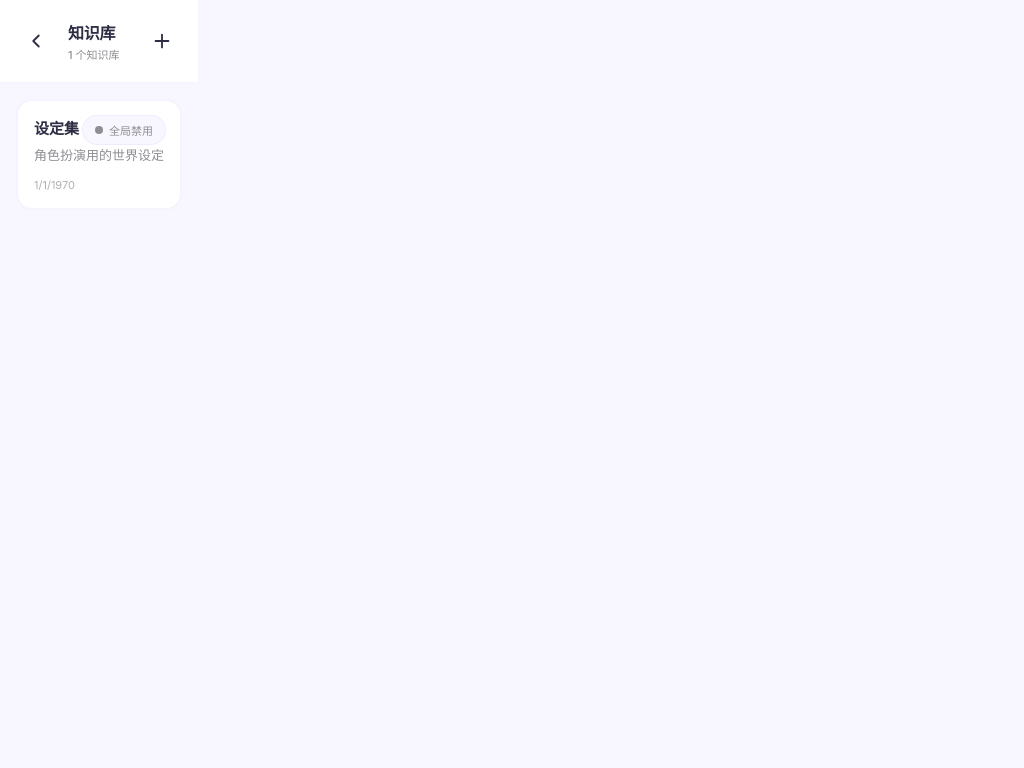
KnowledgeBasePage 详情与条目 › 进入详情：展示副标题的启用计数，并能添加新条目
Click the element with class "kb-card".
click(99, 154)  # box top-left (16, 99), bottom-right (182, 210)
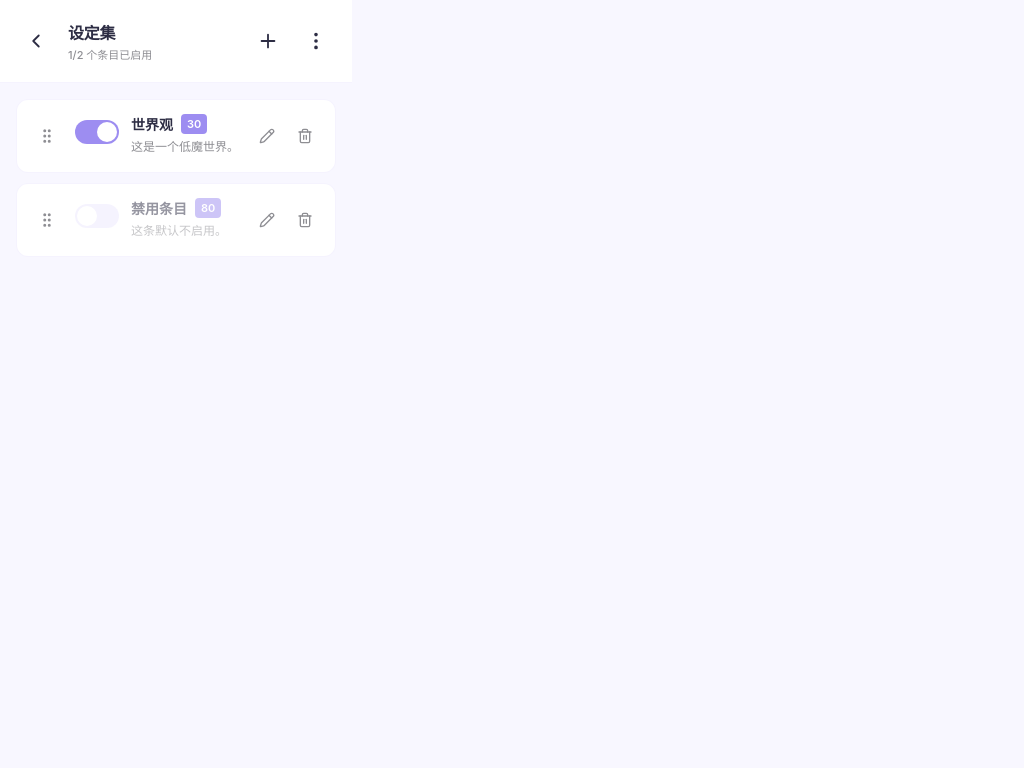
Expected: the element with class "kb-detail-view" is shown, top-left (0, 0), bottom-right (352, 767)
Expected: the text "设定集" is shown, top-left (68, 23), bottom-right (115, 43)
Expected: the text "1/2 个条目已启用" is shown, top-left (68, 48), bottom-right (152, 62)
Click the 2nd button with class "nav-btn".
click(268, 41)  # box top-left (248, 21), bottom-right (288, 61)
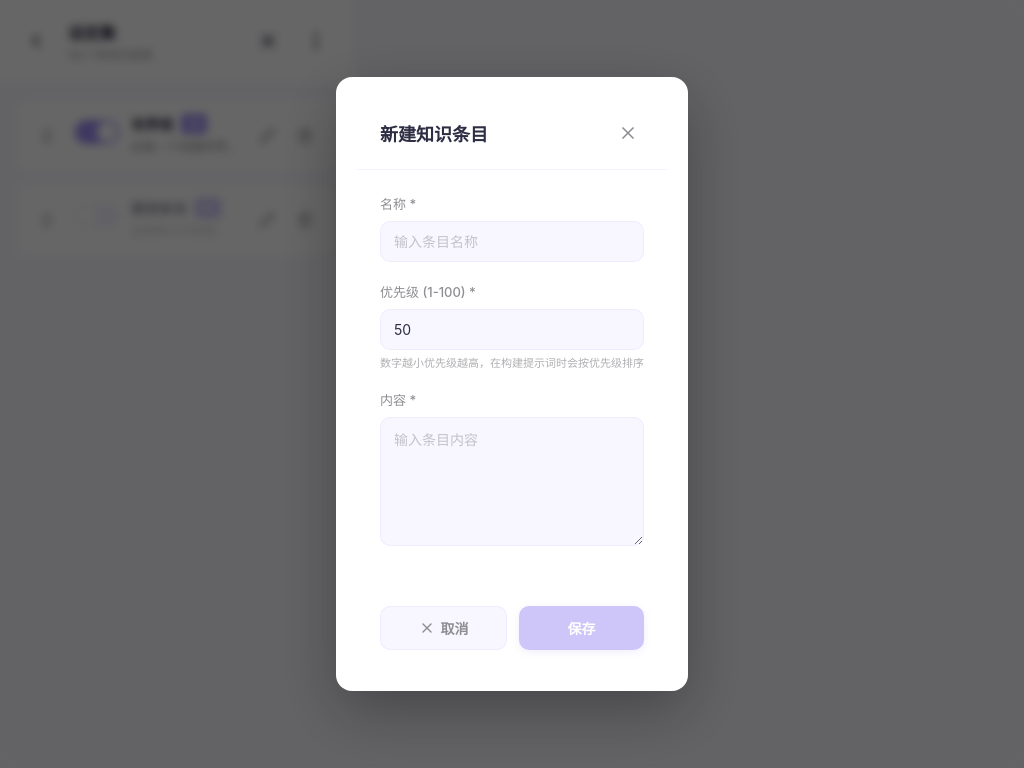
Expected: the heading "新建知识条目" is shown, top-left (380, 120), bottom-right (488, 146)
Type "新条目" into the field with placeholder "输入条目名称".
click(512, 241); type("新条目")  # box top-left (380, 221), bottom-right (644, 262)
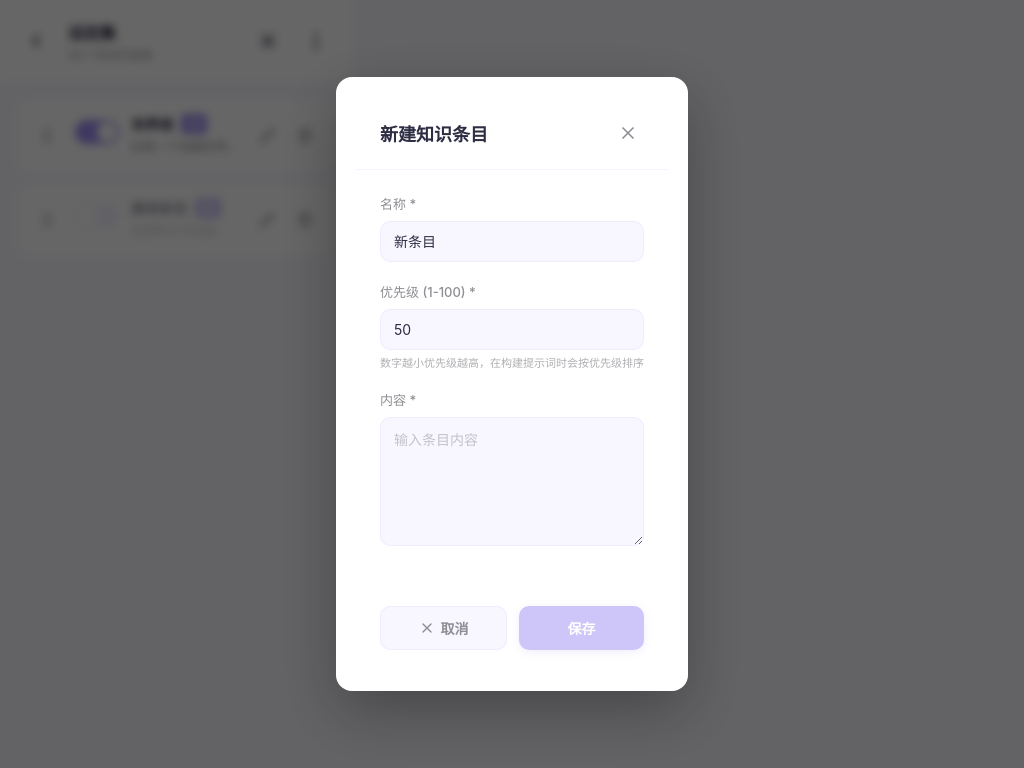
Type "新条目内容" into the text box with placeholder "输入条目内容".
click(512, 481); type("新条目内容")  # box top-left (380, 417), bottom-right (644, 546)
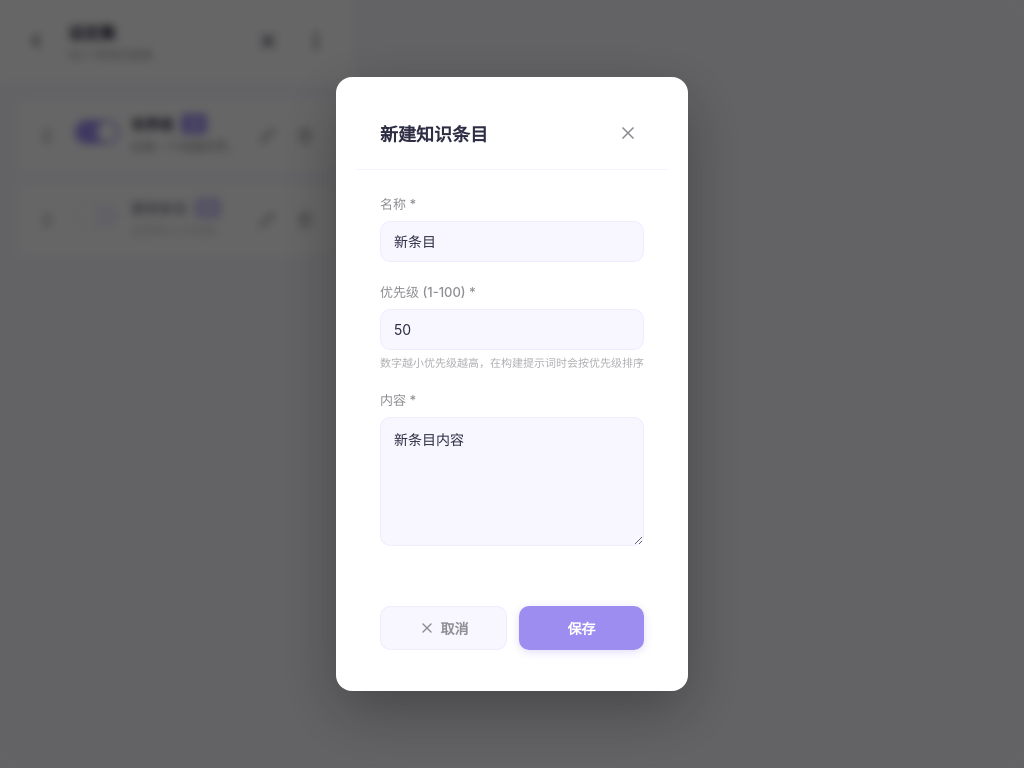
Click the button with class "form-action-btn" showing "保存".
click(582, 628)  # box top-left (519, 606), bottom-right (644, 650)
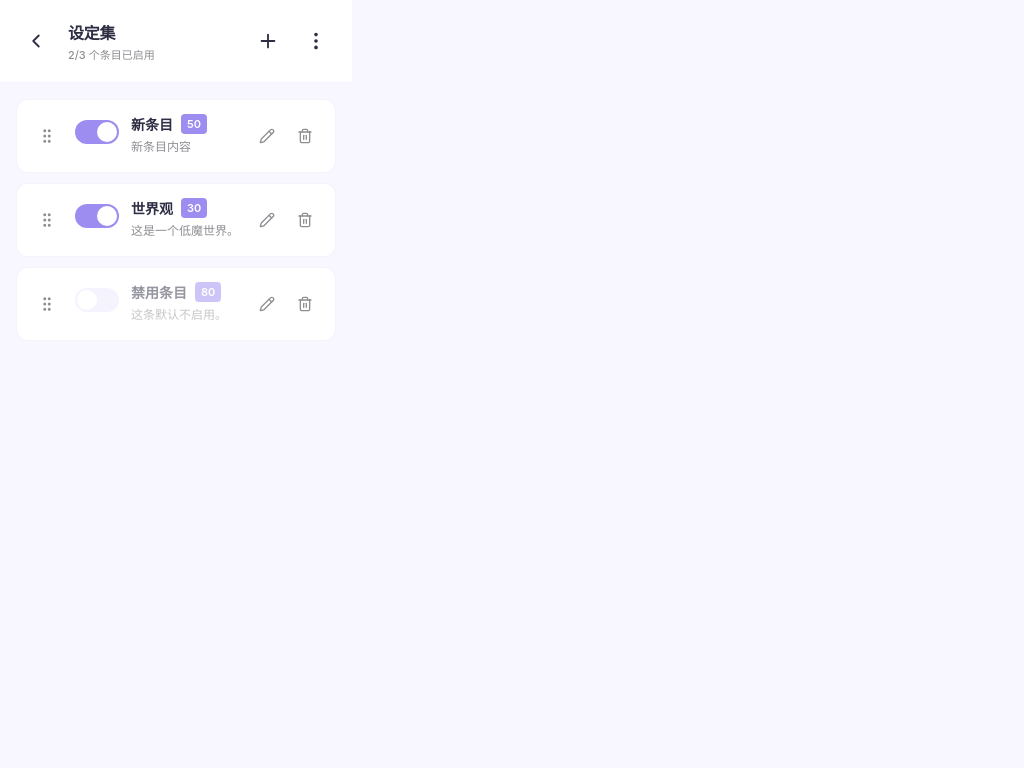
Expected: the text "新条目内容" is shown, top-left (131, 139), bottom-right (191, 154)
Expected: the text "2/3 个条目已启用" is shown, top-left (68, 48), bottom-right (155, 62)
